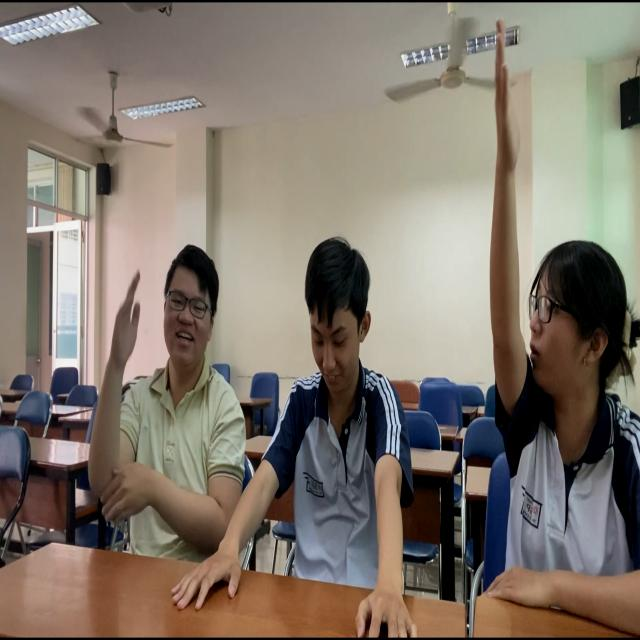raise_hand: (477, 13, 640, 640), (85, 235, 246, 569)
